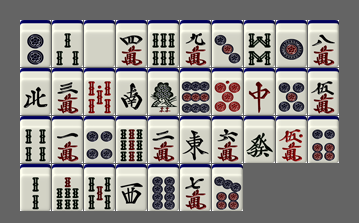0m: (276, 116, 307, 163)
0p: (212, 68, 243, 115)
0s: (84, 68, 115, 115)
1m: (52, 116, 83, 163)
1p: (276, 20, 307, 67)
1s: (148, 68, 179, 115)
1z: (180, 116, 211, 163)
2m: (148, 116, 179, 163)
2p: (20, 20, 51, 67)
2s: (20, 164, 51, 211)
2z: (116, 68, 147, 115)
3m: (52, 68, 83, 115)
3p: (212, 20, 243, 67)
3s: (52, 20, 83, 67)
3z: (116, 164, 147, 211)
4m: (116, 20, 147, 67)
4p: (84, 116, 115, 163)
4s: (20, 116, 51, 163)
4z: (20, 68, 51, 115)
5m: (308, 68, 339, 115)
5p: (276, 68, 307, 115)
5s: (84, 164, 115, 211)
5z: (84, 20, 115, 67)
6m: (212, 116, 243, 163)
6p: (308, 116, 339, 163)
6s: (148, 20, 179, 67)
6z: (244, 116, 275, 163)
7m: (180, 164, 211, 211)
7p: (212, 164, 243, 211)
7s: (52, 164, 83, 211)
7z: (244, 68, 275, 115)
8m: (308, 20, 339, 67)
8p: (148, 164, 179, 211)
8s: (244, 20, 275, 67)
9m: (180, 20, 211, 67)
9p: (180, 68, 211, 115)
9s: (116, 116, 147, 163)
